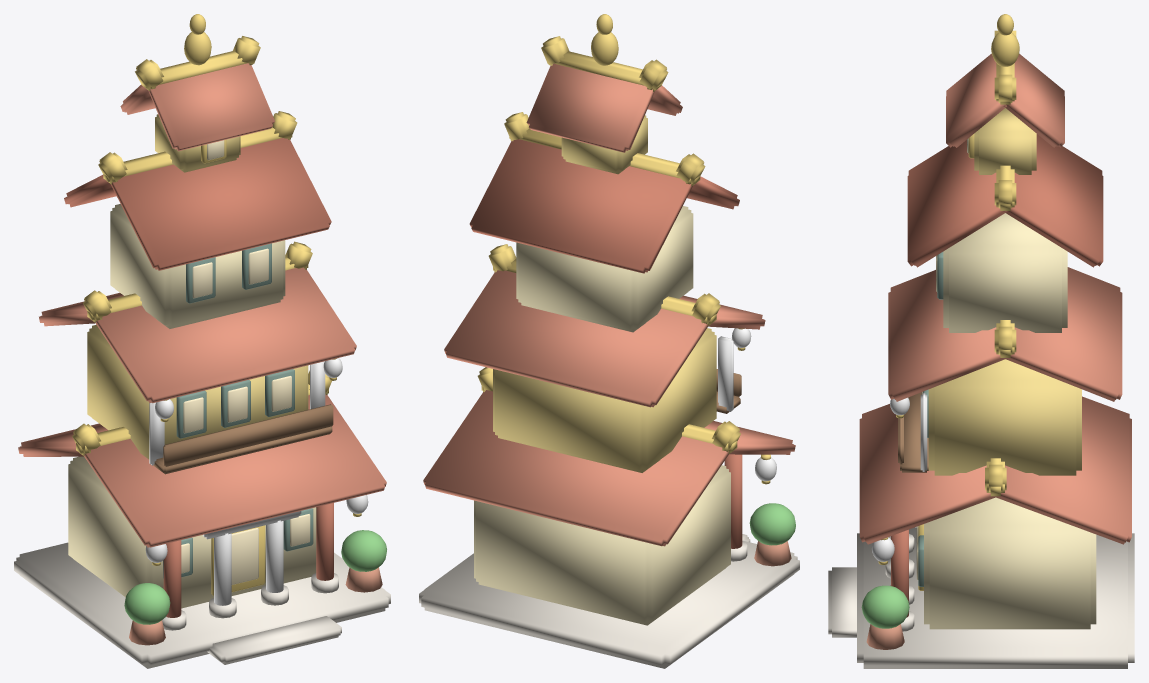
Rendered from lvl4_dinhvn.glb.
3 renders of one model, left to right at view 1: azimuth 30°, elevation 25°; view 2: azimuth 150°, elevation 25°; view 3: azimuth 270°, elevation 25°, orthographic. The views are drawn at different scales.
Parts seen in each view (by area): view 1: lvl4_dinhvn; view 2: lvl4_dinhvn; view 3: lvl4_dinhvn.
Boxes of the visible parts, box(x1,y1,x2,y2) form: lvl4_dinhvn: box(14, 14, 390, 668); lvl4_dinhvn: box(419, 14, 799, 668); lvl4_dinhvn: box(828, 14, 1134, 668).
Bounding box in the file's own units: 0.64 × 1.37 × 0.64.
